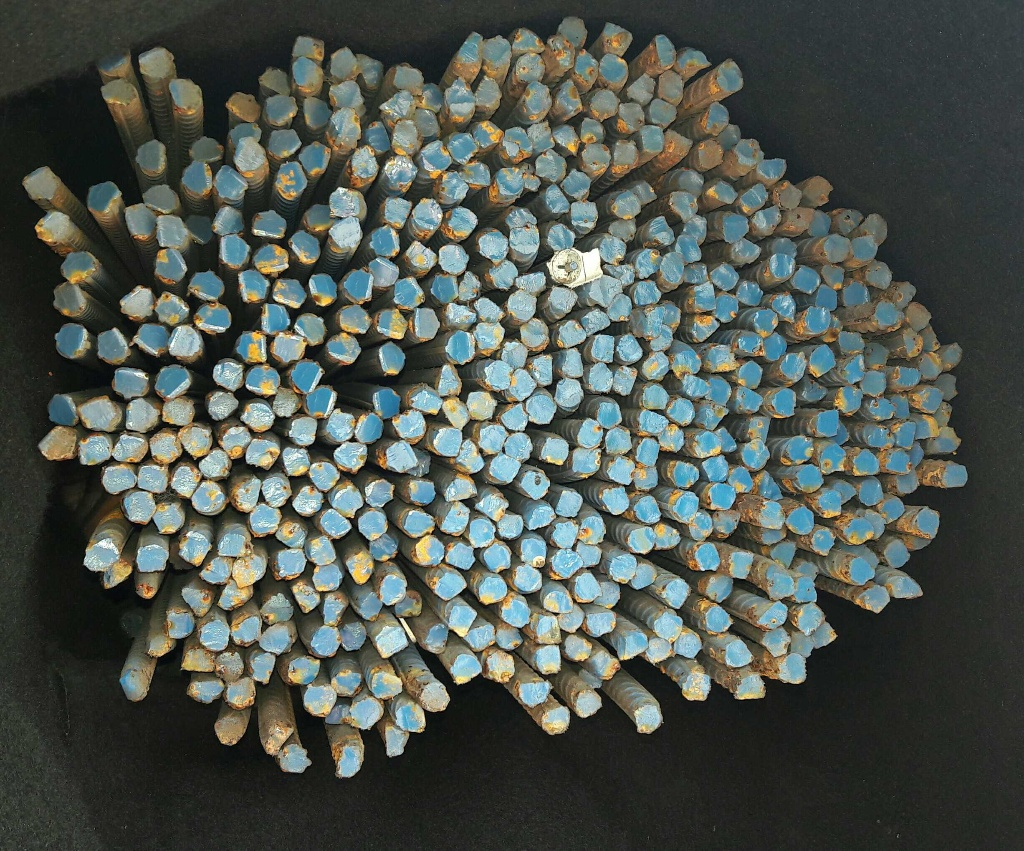dipstick: (79, 397, 118, 432), (54, 323, 89, 359), (443, 205, 478, 240), (133, 323, 169, 357), (155, 365, 191, 399), (22, 167, 59, 200), (38, 426, 76, 458), (155, 214, 188, 250), (97, 328, 130, 363), (126, 398, 159, 433), (246, 437, 281, 470), (60, 251, 97, 282), (193, 303, 231, 333), (444, 82, 474, 120), (53, 282, 87, 315), (234, 137, 267, 171), (393, 410, 426, 444), (155, 291, 190, 323), (120, 286, 155, 318), (179, 531, 211, 566), (187, 672, 223, 703), (156, 249, 188, 283), (434, 171, 468, 203), (113, 367, 150, 396), (230, 477, 261, 511), (381, 90, 415, 121), (35, 211, 70, 241), (227, 92, 262, 122), (189, 271, 224, 301), (84, 540, 119, 570), (502, 127, 532, 162), (253, 243, 289, 272), (354, 52, 381, 90), (169, 77, 201, 109), (78, 433, 110, 465), (304, 685, 336, 717), (87, 182, 120, 213), (192, 481, 225, 512), (199, 448, 232, 479), (233, 555, 266, 586), (329, 217, 362, 248), (375, 627, 408, 658), (273, 278, 307, 308), (328, 81, 363, 110), (250, 210, 286, 238), (299, 142, 331, 173), (169, 325, 200, 357), (124, 492, 155, 524), (250, 503, 282, 534), (220, 427, 251, 459), (294, 313, 325, 345), (387, 441, 418, 473), (136, 140, 166, 173), (215, 166, 248, 196), (290, 231, 320, 264), (178, 427, 211, 457), (306, 385, 336, 418), (327, 334, 360, 364), (333, 442, 366, 472), (445, 330, 475, 363), (293, 57, 322, 91), (218, 581, 252, 610), (101, 466, 137, 493), (48, 394, 79, 425), (212, 360, 243, 391), (238, 270, 269, 301), (350, 698, 381, 729), (420, 141, 451, 172), (219, 235, 249, 267), (260, 623, 292, 653), (226, 676, 256, 708), (310, 625, 340, 657), (243, 402, 275, 432), (292, 360, 322, 392), (478, 231, 508, 263), (125, 204, 154, 237), (149, 433, 182, 462), (179, 587, 212, 616), (393, 63, 422, 96), (246, 366, 280, 394), (384, 156, 418, 184), (440, 503, 468, 537), (474, 76, 502, 110), (393, 118, 418, 156), (112, 436, 148, 462), (182, 161, 212, 192), (277, 162, 307, 193), (451, 654, 482, 684), (551, 549, 582, 579), (268, 129, 300, 158), (162, 396, 194, 425), (260, 594, 292, 623), (308, 274, 337, 306), (536, 150, 565, 182), (334, 485, 362, 518), (700, 102, 728, 135), (303, 97, 330, 131), (143, 185, 178, 211), (152, 504, 182, 534), (330, 187, 360, 217), (358, 510, 388, 540), (395, 277, 425, 307), (266, 95, 297, 124), (231, 617, 262, 646), (214, 714, 243, 745), (264, 724, 293, 755), (292, 487, 323, 516), (238, 333, 269, 362), (275, 332, 306, 361), (330, 48, 359, 79), (371, 225, 400, 256), (483, 652, 514, 681), (448, 133, 479, 162), (598, 54, 627, 85), (200, 555, 232, 583), (338, 306, 370, 334), (477, 494, 509, 522), (139, 48, 172, 75), (189, 136, 223, 162), (548, 34, 574, 68), (650, 34, 676, 68), (658, 70, 684, 104), (101, 79, 136, 104), (200, 620, 229, 650), (321, 509, 350, 539), (310, 461, 339, 491), (331, 107, 360, 137), (343, 271, 373, 300), (368, 257, 398, 286), (345, 554, 374, 584), (396, 702, 425, 732), (491, 453, 521, 482), (475, 321, 504, 351), (412, 199, 442, 228), (516, 52, 545, 82), (560, 170, 589, 200), (551, 125, 580, 155), (794, 604, 824, 633), (212, 206, 243, 234), (288, 656, 319, 684), (305, 537, 336, 565), (208, 392, 239, 420), (384, 196, 412, 227), (410, 308, 438, 339), (603, 23, 631, 54), (610, 190, 641, 218), (911, 385, 942, 413), (137, 544, 169, 571), (405, 241, 437, 268), (557, 81, 584, 113), (716, 59, 743, 91), (291, 584, 320, 613), (420, 682, 449, 711), (377, 310, 406, 339), (508, 291, 537, 320), (590, 90, 619, 119), (260, 68, 290, 96), (262, 477, 290, 507), (273, 387, 301, 417), (355, 413, 383, 443), (363, 480, 393, 508), (415, 536, 443, 566), (439, 243, 467, 273), (520, 471, 548, 501), (875, 300, 903, 330), (170, 466, 197, 497), (119, 670, 146, 701), (322, 595, 349, 626), (262, 304, 289, 335), (378, 342, 405, 373), (373, 388, 400, 419), (449, 605, 476, 636), (410, 388, 441, 415), (485, 359, 512, 390), (520, 318, 547, 349), (509, 370, 536, 401), (327, 409, 353, 441), (477, 425, 505, 454), (441, 398, 469, 427), (681, 672, 710, 700), (526, 395, 555, 423), (559, 17, 587, 46), (786, 506, 814, 535), (138, 466, 168, 493), (164, 610, 194, 637), (276, 521, 306, 548), (445, 302, 475, 329), (627, 74, 654, 104), (352, 147, 378, 178), (457, 32, 483, 63), (471, 121, 502, 147), (525, 83, 551, 114), (723, 212, 749, 243), (366, 121, 391, 153), (331, 671, 363, 696), (459, 439, 484, 471), (229, 123, 262, 147), (385, 723, 409, 756), (512, 29, 545, 53), (215, 652, 243, 680), (514, 564, 542, 592), (433, 428, 461, 456), (466, 391, 494, 419), (496, 167, 524, 195), (619, 632, 647, 660), (525, 123, 553, 151), (649, 99, 677, 127), (735, 138, 763, 166), (792, 266, 820, 294), (282, 446, 309, 475), (404, 510, 433, 537), (414, 84, 441, 113), (484, 36, 511, 65), (634, 704, 661, 733), (590, 652, 619, 679), (654, 613, 681, 642), (556, 378, 583, 407), (372, 672, 402, 698), (445, 543, 475, 569), (643, 350, 669, 380), (460, 161, 491, 186), (810, 345, 835, 376), (913, 509, 938, 540), (292, 36, 324, 60), (218, 533, 251, 556), (186, 215, 213, 243), (280, 744, 307, 772), (312, 564, 340, 591), (505, 433, 532, 461), (577, 516, 605, 543), (554, 490, 582, 517), (633, 496, 660, 524), (611, 138, 638, 166), (787, 435, 814, 463), (757, 500, 784, 528), (768, 571, 795, 599), (762, 628, 790, 655), (276, 549, 305, 575), (290, 416, 316, 445), (305, 204, 334, 230), (380, 575, 406, 604), (468, 519, 494, 548), (520, 538, 546, 567), (594, 579, 620, 608), (711, 509, 740, 535), (617, 333, 643, 362), (571, 200, 597, 229), (741, 440, 767, 469), (710, 263, 739, 289), (820, 443, 846, 472), (884, 539, 910, 568), (146, 631, 176, 656), (437, 365, 462, 395), (586, 612, 616, 637), (519, 681, 550, 705), (688, 509, 712, 540), (575, 50, 599, 81), (479, 577, 506, 604), (431, 275, 458, 302), (542, 706, 569, 733), (552, 522, 579, 549), (706, 574, 733, 601), (558, 320, 585, 347), (759, 601, 786, 628), (369, 534, 397, 560), (436, 574, 464, 600), (502, 599, 530, 625), (664, 580, 690, 608), (673, 632, 701, 658), (628, 527, 656, 553), (540, 438, 568, 464), (603, 488, 629, 516), (678, 48, 706, 74), (669, 192, 697, 218), (702, 455, 728, 483), (825, 235, 851, 263), (865, 261, 891, 289), (444, 478, 477, 500), (536, 615, 561, 644), (575, 573, 600, 602), (581, 144, 610, 169), (664, 131, 693, 156), (706, 377, 731, 406), (781, 654, 806, 683), (337, 745, 361, 775), (690, 281, 714, 311), (732, 239, 762, 263), (183, 648, 214, 671), (252, 653, 275, 684), (675, 491, 698, 522), (661, 252, 684, 283), (468, 624, 495, 650), (490, 261, 517, 287), (511, 226, 538, 252), (726, 640, 753, 666), (608, 457, 635, 483), (549, 287, 576, 313), (678, 170, 704, 197), (693, 315, 720, 341), (753, 206, 780, 232), (835, 387, 861, 414), (853, 449, 880, 475), (341, 623, 366, 651), (611, 554, 636, 582), (606, 427, 631, 455), (649, 217, 674, 245), (659, 424, 684, 452), (707, 346, 735, 371), (753, 309, 778, 337), (812, 528, 837, 556), (425, 624, 449, 653), (578, 419, 602, 448), (588, 363, 612, 392), (697, 139, 721, 168), (475, 297, 505, 320), (543, 590, 573, 613), (735, 675, 765, 698), (614, 365, 637, 395), (531, 355, 553, 386), (864, 214, 886, 245), (484, 545, 510, 571), (576, 691, 602, 717), (564, 634, 590, 660), (706, 606, 732, 632), (736, 280, 762, 306), (837, 209, 863, 235), (851, 236, 877, 262), (780, 353, 806, 379), (862, 586, 888, 612), (396, 590, 421, 617), (496, 624, 523, 649), (631, 562, 656, 589), (695, 543, 720, 570), (673, 461, 698, 488), (600, 237, 625, 264), (633, 281, 660, 306), (675, 235, 700, 262), (695, 432, 722, 457), (728, 466, 753, 493), (735, 387, 762, 412), (740, 183, 767, 208), (769, 542, 796, 567), (845, 519, 872, 544), (536, 645, 560, 673), (572, 448, 600, 472), (559, 349, 583, 377), (582, 310, 610, 334), (618, 103, 642, 131), (639, 410, 667, 434), (762, 333, 786, 361), (905, 302, 929, 330), (771, 388, 795, 416), (714, 292, 737, 321), (501, 405, 527, 430), (575, 541, 601, 566), (579, 118, 604, 144), (640, 126, 665, 152), (710, 483, 735, 509), (769, 253, 794, 279), (860, 370, 886, 395), (934, 428, 960, 453), (797, 466, 823, 491), (559, 605, 583, 632), (607, 294, 631, 321), (673, 350, 700, 374), (738, 361, 762, 388), (772, 294, 796, 321), (838, 331, 865, 355), (637, 438, 660, 466), (591, 335, 614, 363), (637, 249, 660, 277), (681, 375, 709, 398), (940, 343, 963, 371), (892, 365, 920, 388), (865, 341, 888, 369), (912, 415, 940, 438), (860, 477, 883, 505), (730, 551, 752, 580), (888, 390, 910, 419), (497, 513, 522, 538), (633, 465, 658, 490), (596, 402, 621, 427), (669, 399, 694, 424), (805, 176, 830, 201), (738, 332, 763, 357), (503, 341, 527, 367), (655, 523, 679, 549), (646, 639, 673, 662), (528, 506, 555, 529), (546, 184, 569, 211), (806, 306, 829, 333), (892, 422, 915, 449), (902, 327, 922, 358), (918, 352, 940, 380), (864, 511, 885, 540), (788, 207, 812, 232), (888, 449, 912, 474), (881, 498, 905, 523), (849, 558, 873, 583), (548, 225, 574, 248), (609, 218, 635, 241), (818, 491, 841, 517), (778, 182, 800, 209), (844, 355, 866, 382), (888, 580, 921, 598), (359, 593, 381, 619), (650, 324, 672, 350), (822, 263, 844, 289), (516, 273, 546, 292), (506, 207, 536, 226), (758, 158, 786, 178), (410, 480, 434, 503), (712, 181, 736, 204), (643, 386, 668, 408), (844, 281, 869, 303), (942, 465, 967, 487), (795, 577, 816, 603), (809, 211, 830, 236), (818, 410, 838, 436), (717, 427, 737, 452), (870, 398, 893, 419), (772, 238, 796, 258), (898, 471, 919, 492)
